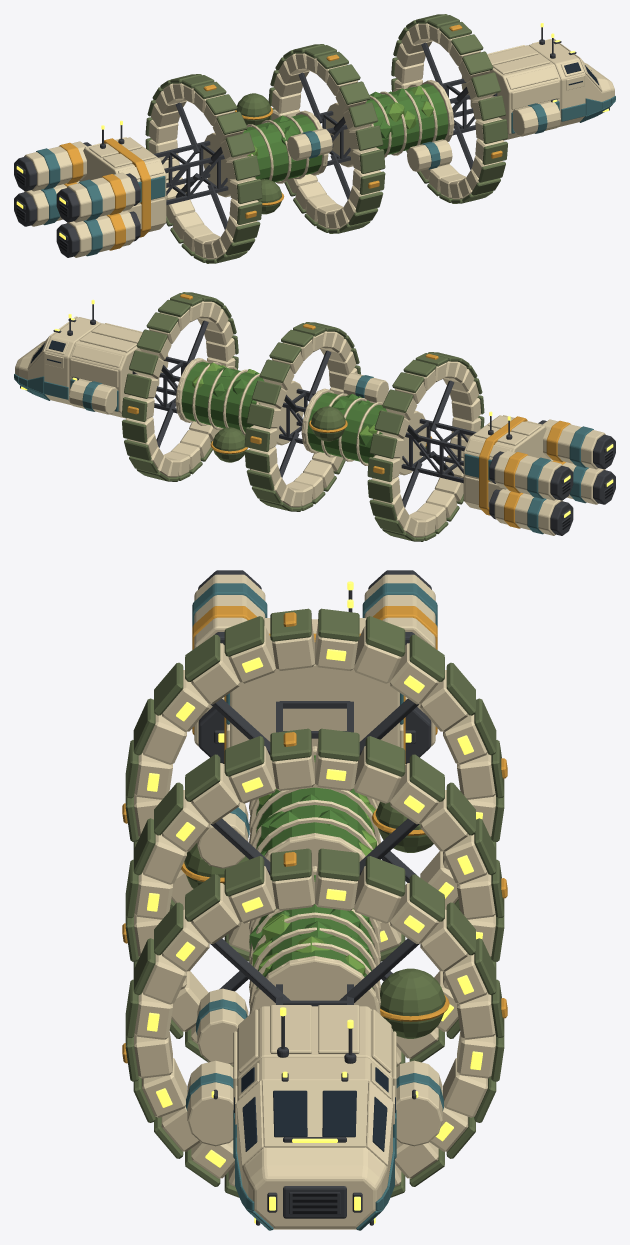
Rendered from colony.glb.
3 views of the same model, one above another, from view 1: azimuth 30°, elevation 25°; view 2: azimuth 150°, elevation 25°; view 3: azimuth 270°, elevation 25° (orthographic). The views are drawn at different scales.
Visible parts, largest first — view 1: habitat body, hull body, drive body; view 2: habitat body, hull body, drive body; view 3: habitat body, hull body, drive body.
Boxes of the visible parts, x1,y1,x2,y2 form: habitat body: (145, 14, 507, 263); hull body: (79, 27, 615, 237); drive body: (14, 141, 140, 257); habitat body: (122, 292, 484, 541); hull body: (14, 304, 550, 515); drive body: (489, 419, 615, 535); habitat body: (122, 608, 507, 1197); hull body: (186, 590, 443, 1230); drive body: (192, 570, 437, 763).
Size of the model in its own units: 18.29 by 5.43 by 5.43.
